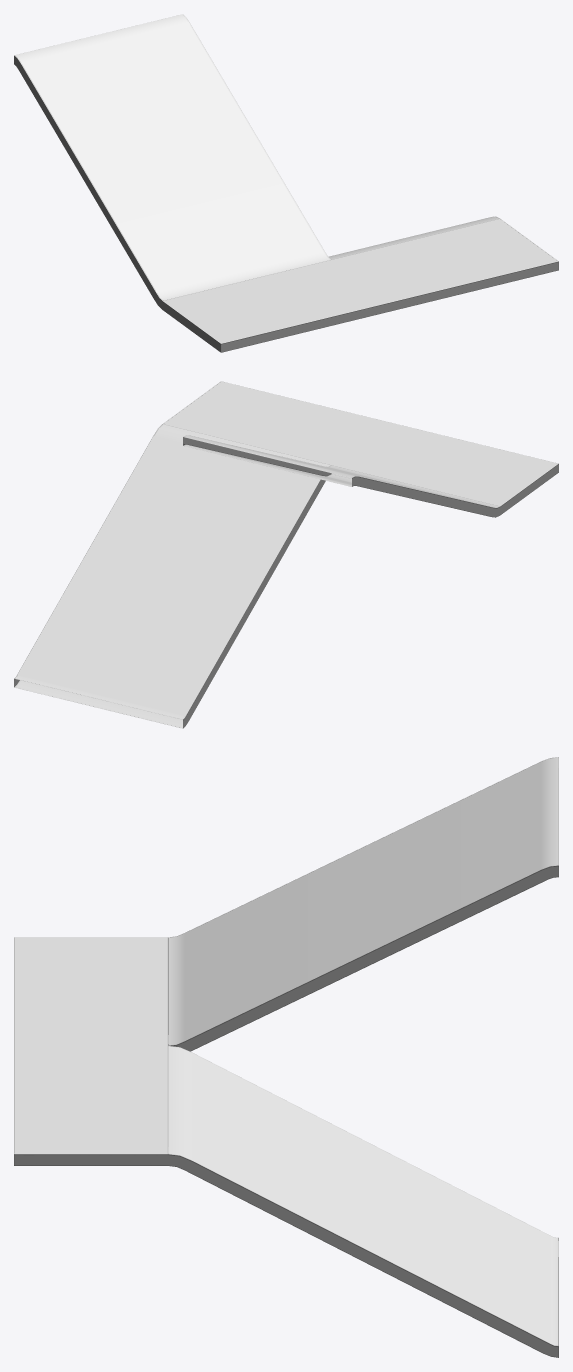
File: Stair_01.FBX
3 views of the same model, one above another, from view 1: azimuth 30°, elevation 25°; view 2: azimuth 150°, elevation 25°; view 3: azimuth 270°, elevation 25° (orthographic). The views are drawn at different scales.
Parts seen in each view (by area): view 1: Stair_01; view 2: Stair_01; view 3: Stair_01.
Boxes of the visible parts, x1,y1,x2,y2 form: Stair_01: [14, 14, 558, 352]; Stair_01: [14, 381, 558, 728]; Stair_01: [14, 757, 558, 1357].
Bounding box in the file's own units: 10 × 8.25 × 10.62.
